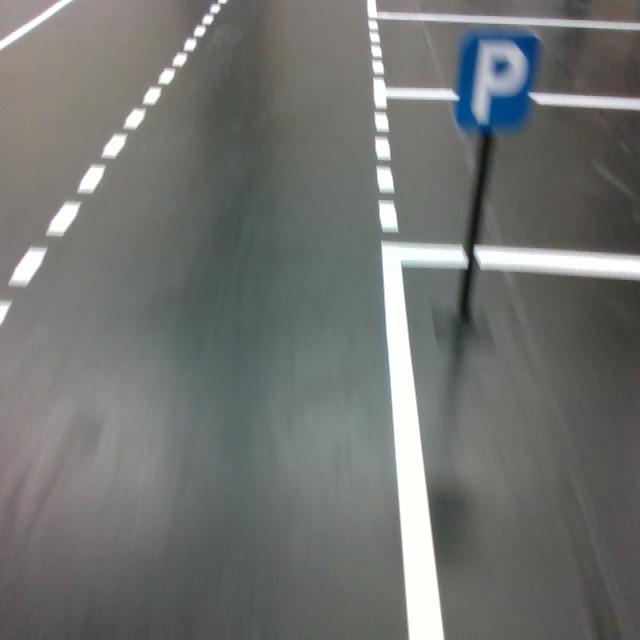parking-sign: (455, 32, 538, 131)
